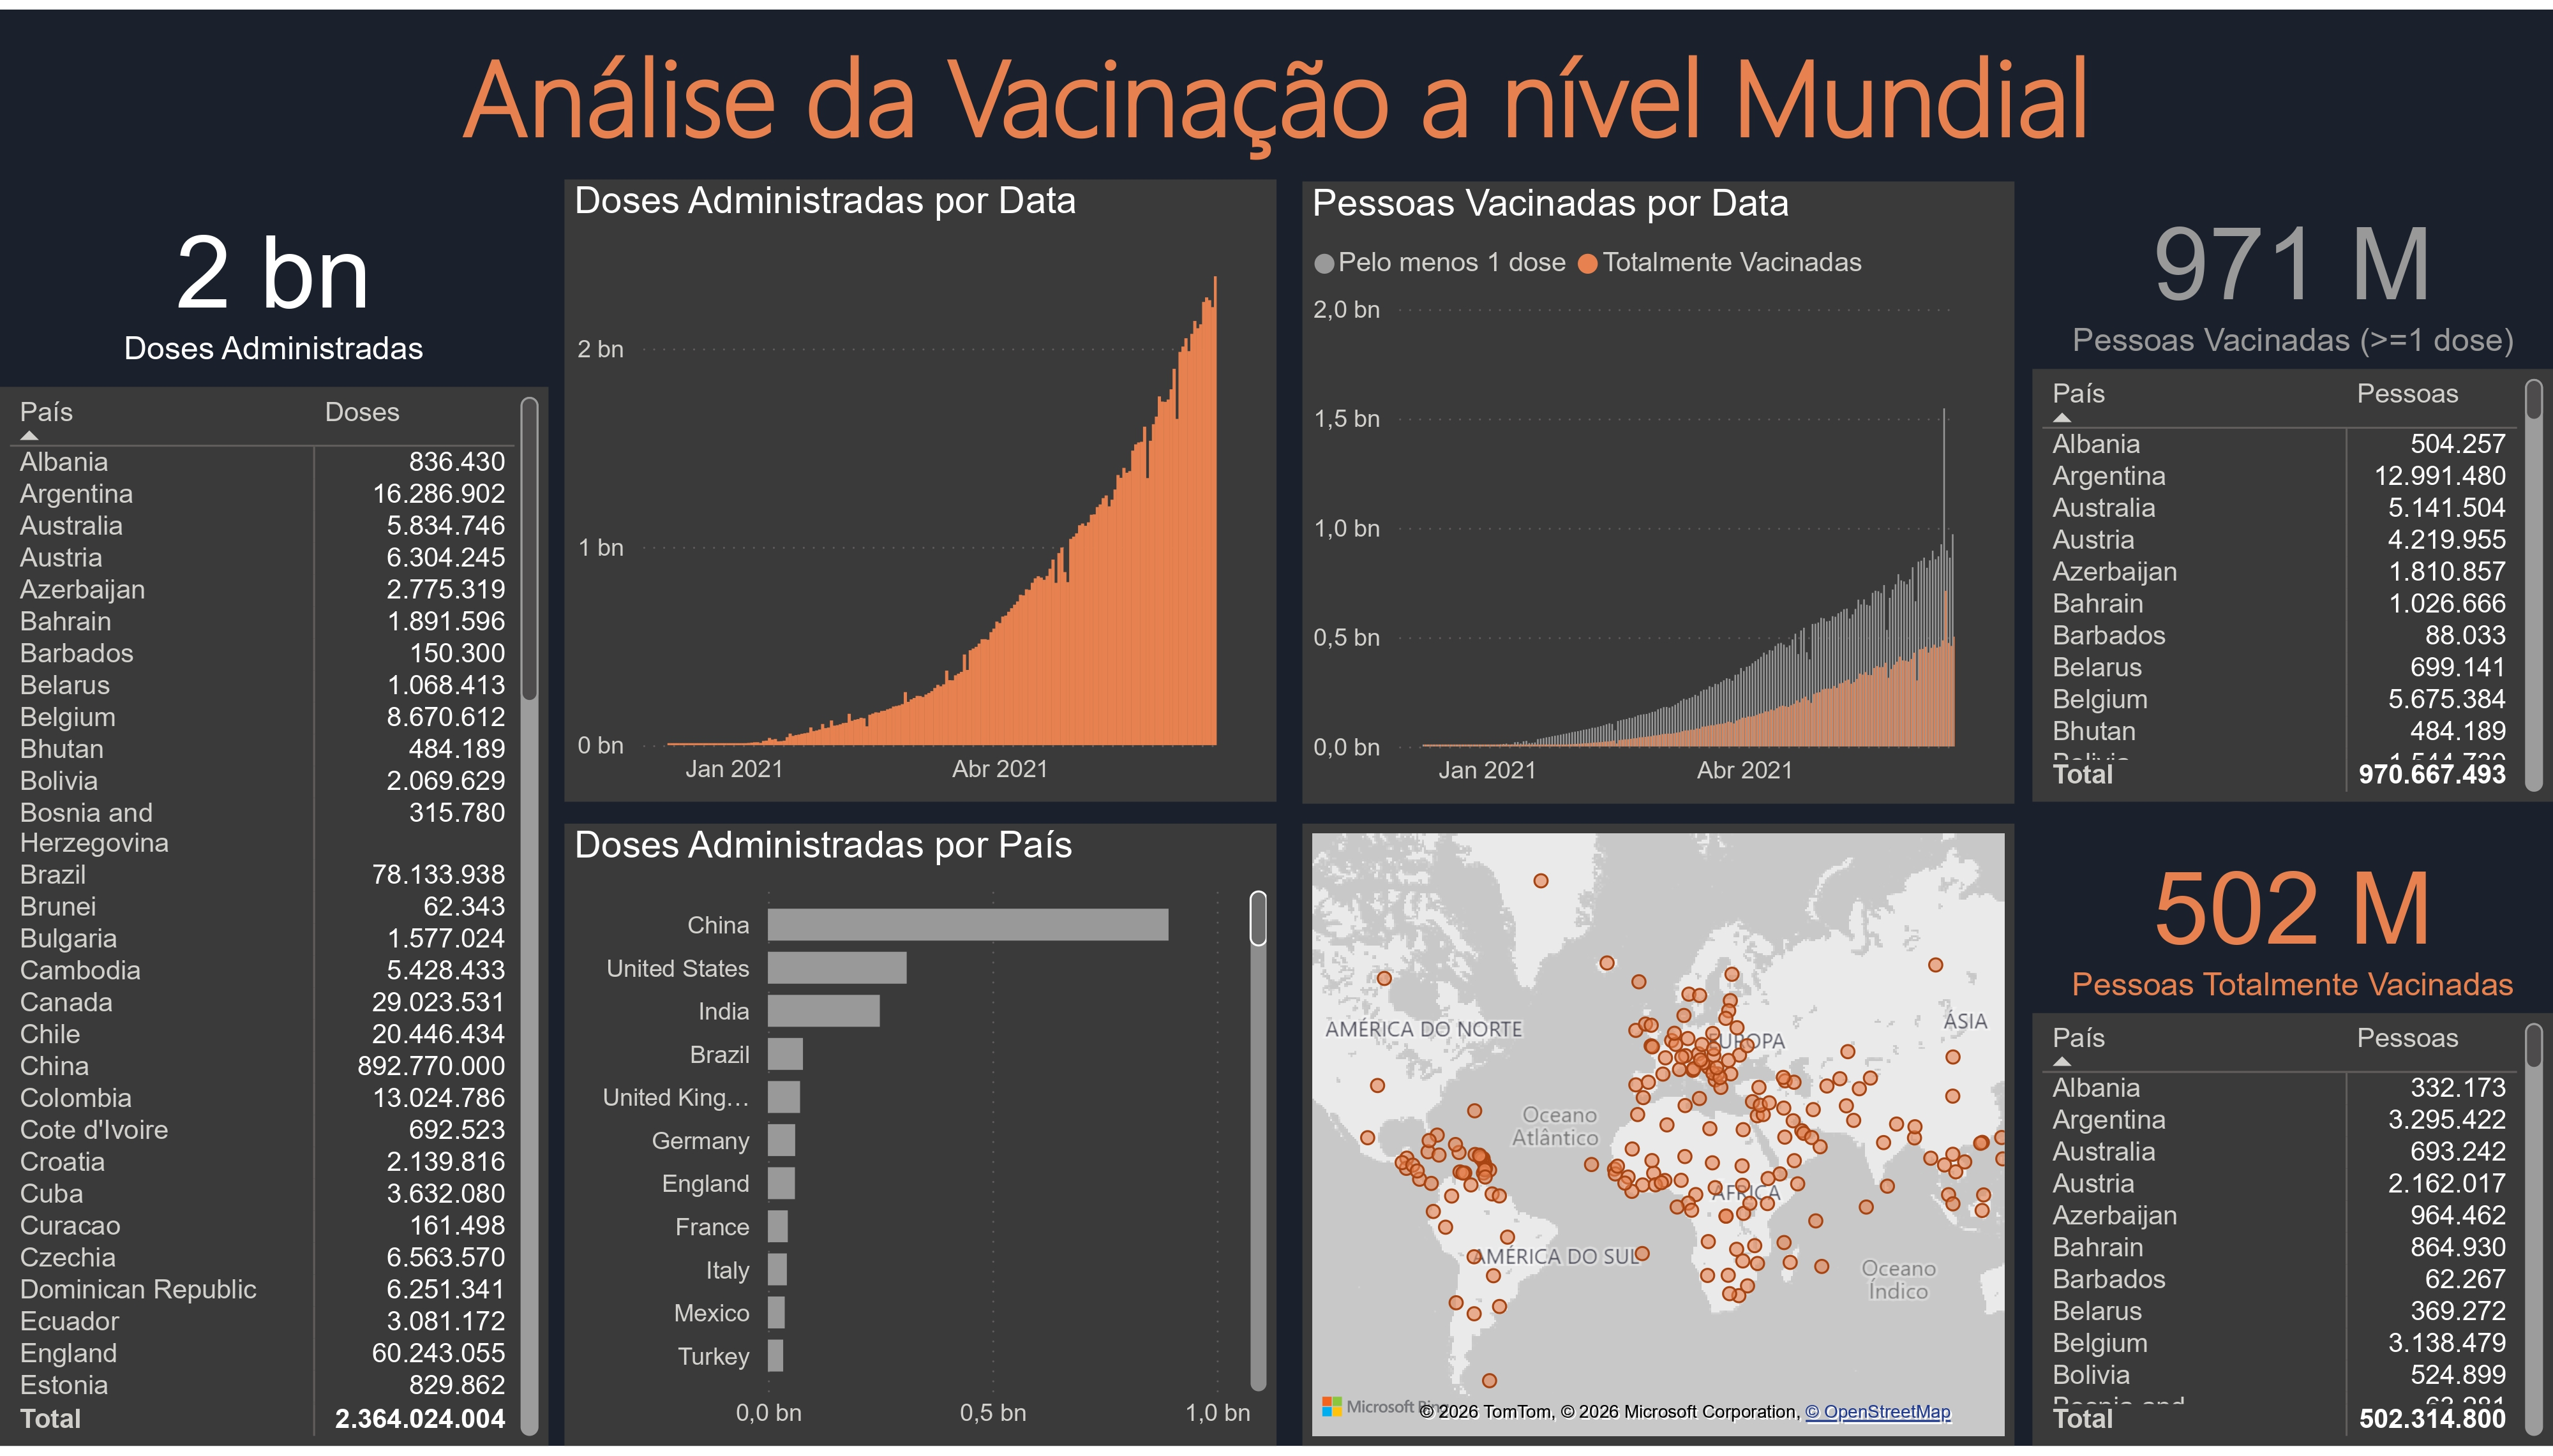

The page's visual inventory and layout, read from the dashboard file:
{"tool":"powerbi","page":{"name":"Vacinação Mundial","canvas":[1280,720],"ordinal":2},"visuals":[{"type":"card","fields":{"Values":["Vacinação_por_País.Vacinação Total"]},"box":[0,84.8,274.6,103.9],"z":0},{"type":"pivotTable","fields":{"Rows":["Países.País"],"Values":["Vacinação_por_País.Vacinação Total"]},"box":[0,188.7,274.6,531.3],"z":1000},{"type":"lineStackedColumnComboChart","title":"Doses Administradas por Data","fields":{"Category":["Calendário.Data"],"Y":["Vacinação_por_País.Doses Administradas"]},"box":[283,84.8,357,311.6],"z":2000},{"type":"clusteredBarChart","title":"Doses Administradas por País","fields":{"Category":["Países.País"],"Y":["Vacinação_por_País.Doses Administradas"]},"box":[283,408.4,357,311.6],"z":3000},{"type":"card","fields":{"Values":["Vacinação_por_País.Pessoas Vacinadas (>=1 dose)"]},"box":[1018.5,84.8,261.5,95.5],"z":4000},{"type":"card","fields":{"Values":["Vacinação_por_País.Pessoas Totalmente Vacinadas"]},"box":[1018.5,408.4,261.5,95.5],"z":5000},{"type":"lineClusteredColumnComboChart","title":"Pessoas Vacinadas por Data","fields":{"Category":["Calendário.Data"],"Y":["Vacinação_por_País.Pessoas Vacinadas (>=1 dose)","Vacinação_por_País.Pessoas Totalmente Vacinadas"]},"box":[653.1,86,357,311.6],"z":6000},{"type":"pivotTable","fields":{"Rows":["Países.País"],"Values":["Vacinação_por_País.Pessoas Vacinadas (>=1 dose)"]},"box":[1018.5,180.3,261.5,217.3],"z":7000},{"type":"pivotTable","fields":{"Rows":["Países.País"],"Values":["Vacinação_por_País.Pessoas Totalmente Vacinadas"]},"box":[1018.5,502.7,261.5,217.3],"z":8000},{"type":"map","fields":{"Category":["Países.País"]},"box":[653.1,408.4,357,311.6],"z":9000},{"type":"textbox","box":[0,0,1280,84.8],"z":10000}]}

Visuals, with their boxes in screenshot pixels (x1, y1, x2, y2), scaled from the page's 1280x720 canvas onto the 2553x1456 screenshot:
card - Vacinação_por_País.Vacinação Total: pyautogui.locateOnScreen(0, 172, 548, 382)
pivotTable - Países.País x Vacinação_por_País.Vacinação Total: pyautogui.locateOnScreen(0, 382, 548, 1455)
"Doses Administradas por Data" lineStackedColumnComboChart: pyautogui.locateOnScreen(564, 172, 1276, 801)
"Doses Administradas por País" clusteredBarChart: pyautogui.locateOnScreen(564, 826, 1276, 1455)
card - Vacinação_por_País.Pessoas Vacinadas (>=1 dose): pyautogui.locateOnScreen(2032, 172, 2552, 364)
card - Vacinação_por_País.Pessoas Totalmente Vacinadas: pyautogui.locateOnScreen(2032, 826, 2552, 1019)
"Pessoas Vacinadas por Data" lineClusteredColumnComboChart: pyautogui.locateOnScreen(1303, 174, 2015, 804)
pivotTable - Países.País x Vacinação_por_País.Pessoas Vacinadas (>=1 dose): pyautogui.locateOnScreen(2032, 364, 2552, 804)
pivotTable - Países.País x Vacinação_por_País.Pessoas Totalmente Vacinadas: pyautogui.locateOnScreen(2032, 1016, 2552, 1455)
map - Países.País: pyautogui.locateOnScreen(1303, 826, 2015, 1455)
textbox: pyautogui.locateOnScreen(0, 0, 2552, 172)
